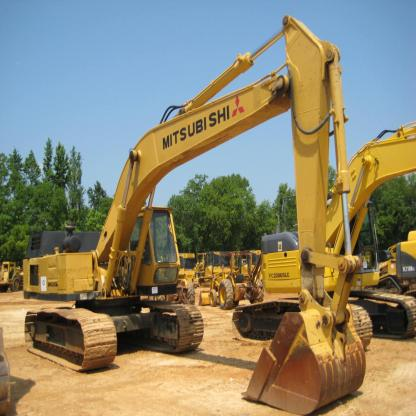excavator: (20, 15, 372, 410)
